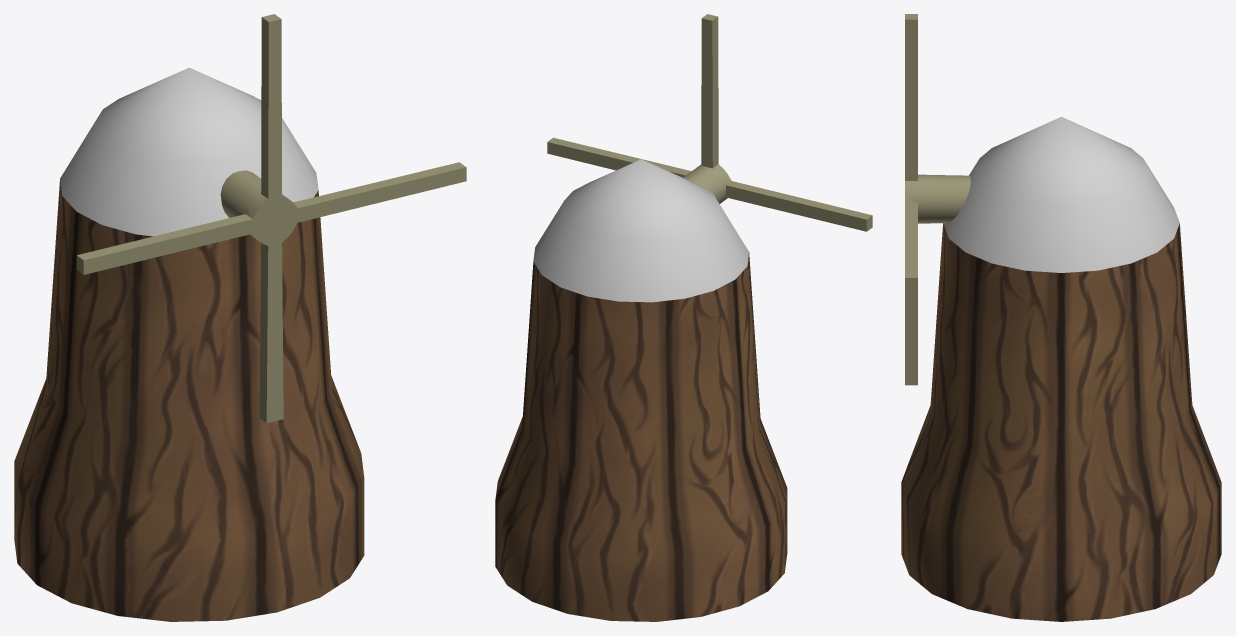
The model's file is windmill.fbx.
The picture shows the model from 3 angles, left to right: view 1: azimuth 30°, elevation 25°; view 2: azimuth 150°, elevation 25°; view 3: azimuth 270°, elevation 25°; orthographic projection. The views are drawn at different scales.
Visible parts, largest first — view 1: Base, pCone1, Turbine; view 2: Base, pCone1, Turbine; view 3: Base, pCone1, Turbine.
Boxes of the visible parts, x1,y1,x2,y2 form: Base: (14, 180, 364, 621); pCone1: (60, 67, 318, 236); Turbine: (76, 14, 466, 423); Base: (495, 252, 787, 621); pCone1: (533, 159, 748, 302); Turbine: (547, 14, 872, 231); Base: (901, 223, 1221, 621); pCone1: (943, 117, 1179, 272); Turbine: (905, 14, 970, 385).
Bounding box in the file's own units: 3.4 × 5.01 × 2.71.
